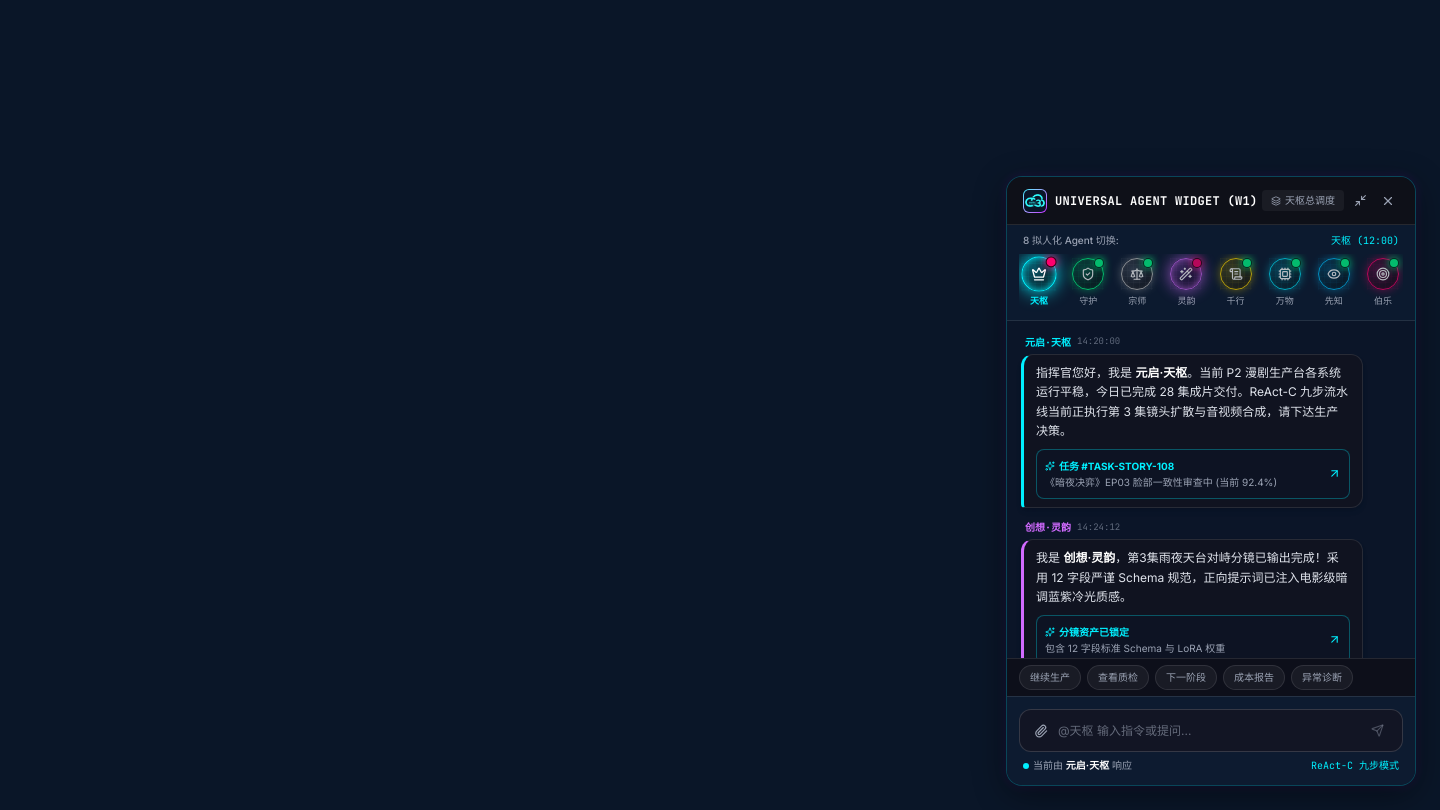
Test: UniversalWidget（W1 浮窗） › chip 快捷指令：production 意图回复含工单引用卡
This screenshot has width=1440, height=810.
Click the button "继续生产" at (1050, 678), box [1019,665,1081,690]
Wait 700 ms
(page scrolled)
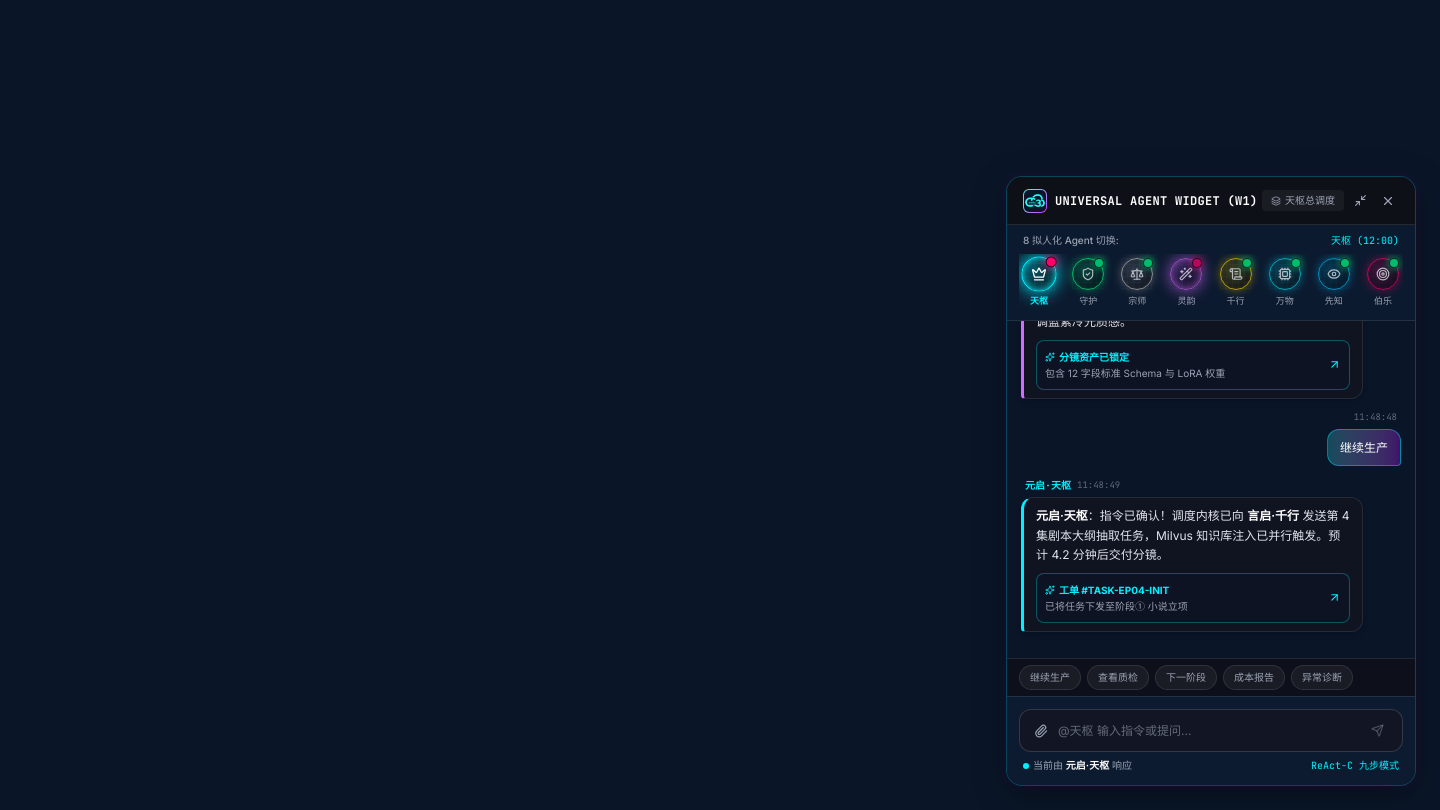
Now the text "言启·千行" is shown, box [1247,508,1299,523]
Now the text "工单 #TASK-EP04-INIT" is shown, box [1059,582,1169,598]
